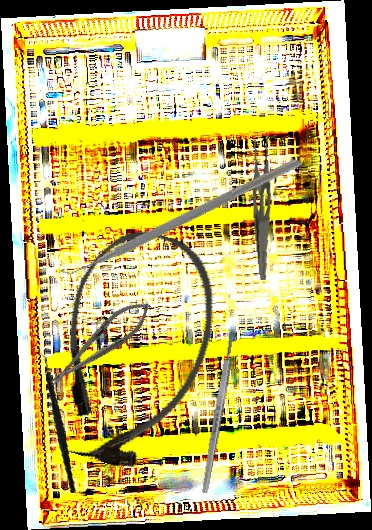Cannula: (30, 216, 236, 482)
Chopper: (47, 76, 304, 351), (14, 348, 96, 494)
Dressing Forceps: (246, 131, 283, 281)
Needle Holder: (41, 291, 159, 396)
Scalpel Handle: (199, 331, 238, 494)
